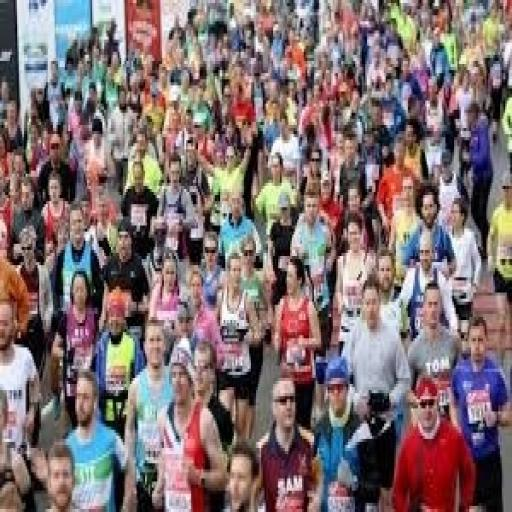running: (0, 0, 510, 509)
